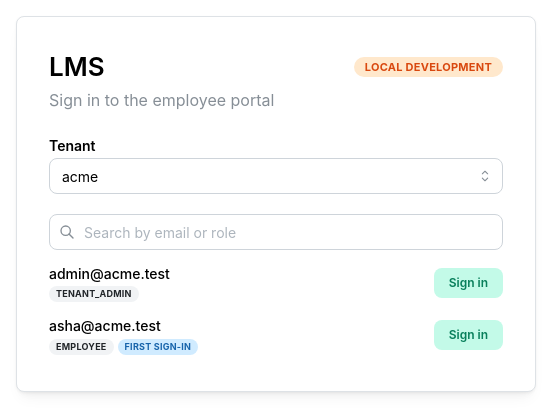
it: LocalTenantSignIn › filters users by email or role
This screenshot has width=553, height=412.
Check: the text "asha@acme.test" is shown, box [49,317,161,334]
Type "tenant_admin" into the field named "Search users" at (276, 232), box [49,214,503,250]
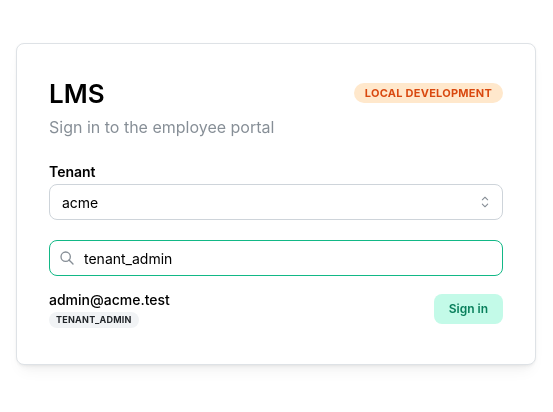
Check: the text "admin@acme.test" is shown, box [49,290,170,310]
Check: the text "asha@acme.test" is gone
